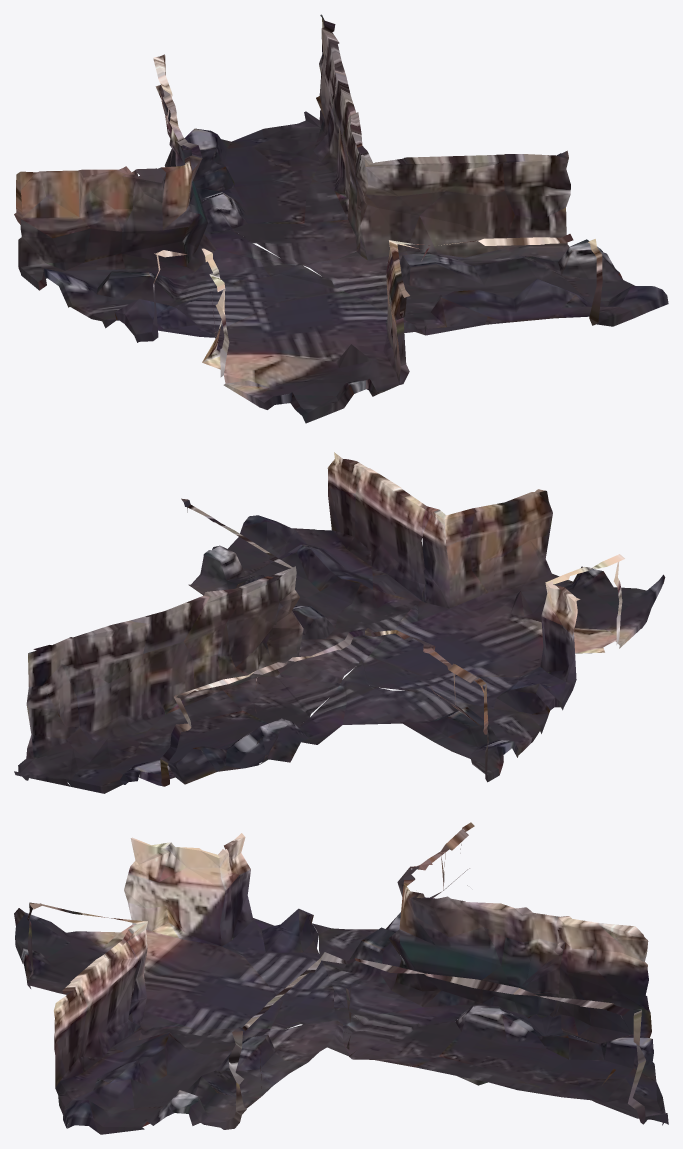
3 views of the same model, one above another, from view 1: azimuth 30°, elevation 25°; view 2: azimuth 150°, elevation 25°; view 3: azimuth 270°, elevation 25° (orthographic). The views are drawn at different scales.
Visible parts, largest first — view 1: Mesh_0; view 2: Mesh_0; view 3: Mesh_0.
Boxes of the visible parts, x1,y1,x2,y2 form: Mesh_0: (14,14,668,423); Mesh_0: (14,452,665,793); Mesh_0: (14,822,668,1134).
Bounding box in the file's own units: 32.36 × 8.55 × 41.38.
1 material, 1 textured.
